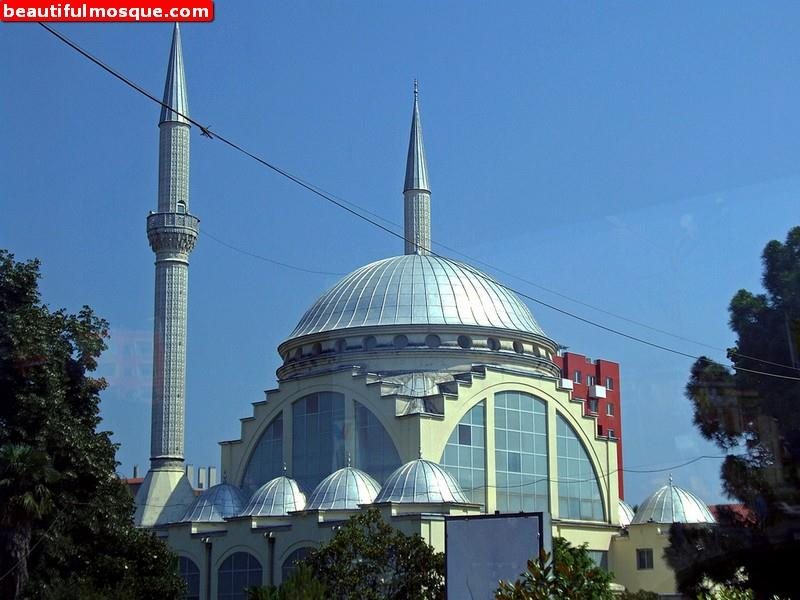Mosque: (122, 19, 651, 548)
